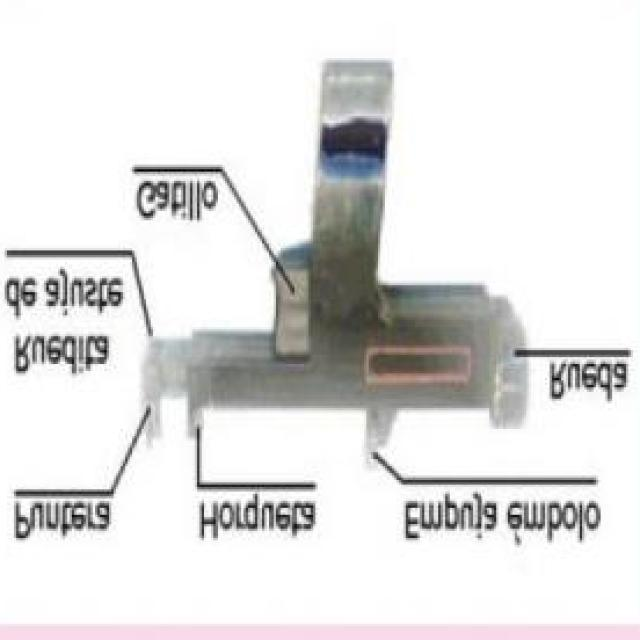pistol: (137, 53, 545, 446)
